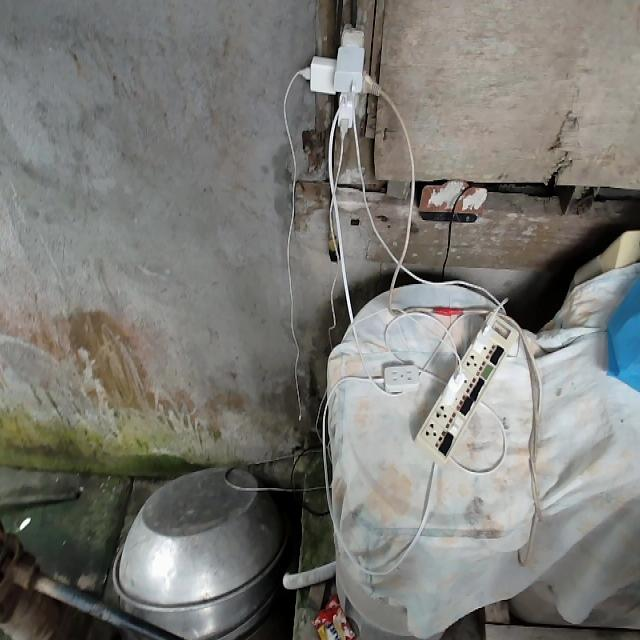-: (300, 22, 378, 138)
